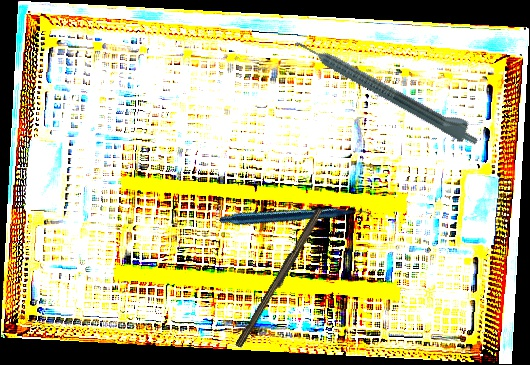Handpiece: (291, 27, 486, 150), (218, 147, 374, 290)
Scalpel Handle: (235, 205, 326, 351)
